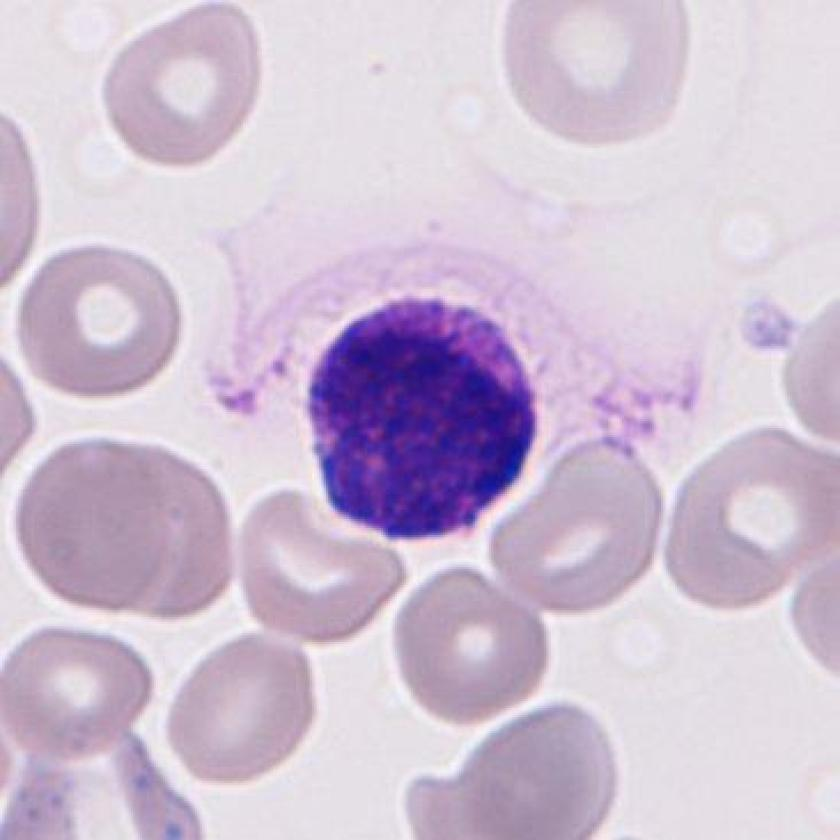basophil: (306, 276, 547, 552)
